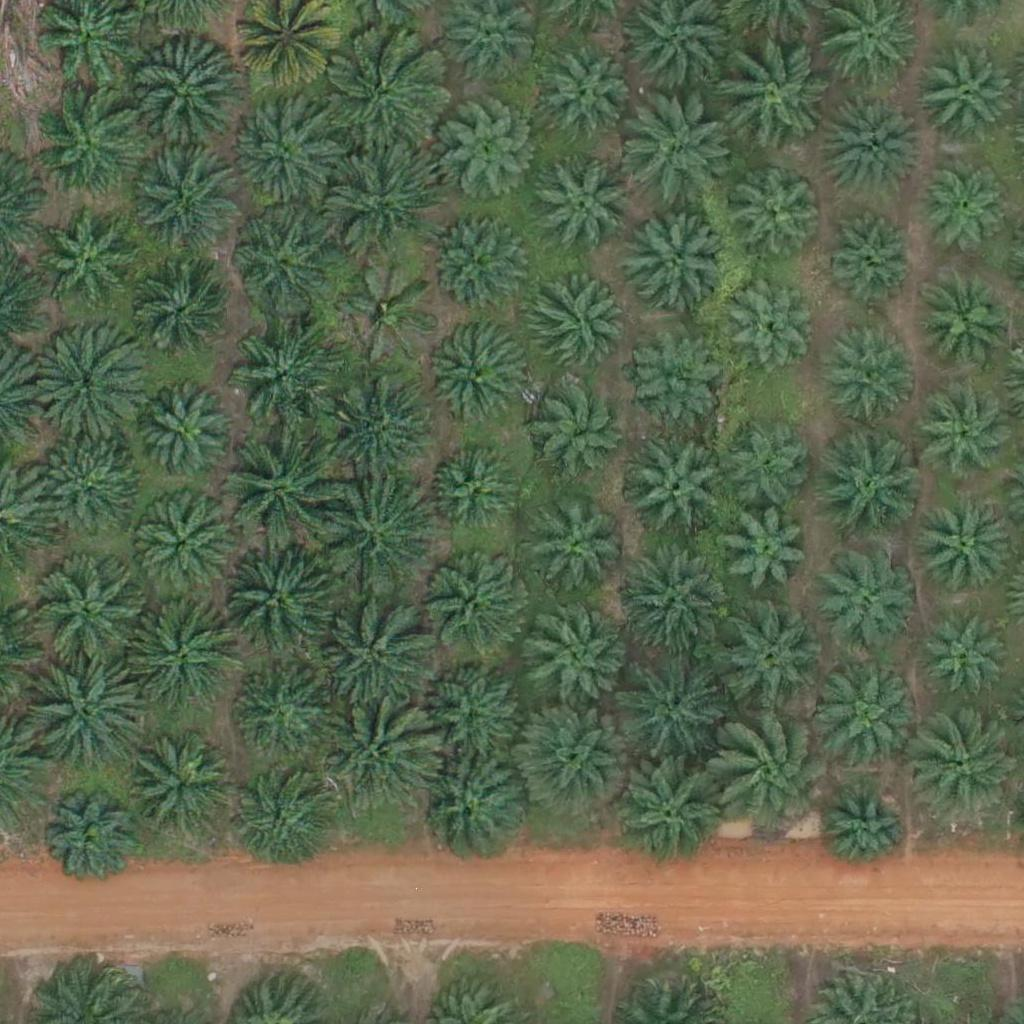Kelapa_Sawit: (711, 713, 836, 839), (222, 541, 335, 655), (29, 325, 142, 439), (615, 550, 728, 663), (615, 651, 728, 764), (611, 758, 724, 871), (316, 595, 429, 708), (319, 366, 432, 479), (323, 146, 436, 259), (327, 34, 440, 147), (221, 435, 334, 548), (130, 41, 243, 154), (124, 599, 237, 712), (34, 560, 147, 673), (620, 98, 732, 212), (319, 480, 431, 594), (35, 88, 147, 202), (714, 37, 826, 150), (711, 602, 823, 715), (520, 706, 632, 819), (414, 752, 526, 865), (319, 700, 431, 813), (227, 314, 339, 427), (126, 736, 238, 849), (36, 657, 148, 770), (916, 46, 1016, 147), (916, 270, 1016, 371), (918, 387, 1018, 488), (914, 498, 1014, 599), (819, 319, 919, 420), (818, 438, 918, 539), (815, 547, 915, 648), (727, 159, 827, 260), (627, 214, 727, 315), (631, 443, 731, 544), (532, 156, 632, 257), (524, 276, 624, 377), (529, 376, 629, 477), (525, 608, 625, 709), (430, 211, 530, 312), (427, 327, 527, 428), (426, 553, 526, 654), (228, 100, 328, 201), (230, 212, 330, 313), (234, 665, 334, 766), (231, 774, 331, 875), (136, 157, 236, 258), (131, 497, 231, 598), (37, 212, 137, 313), (818, 101, 918, 201), (820, 670, 920, 770), (623, 326, 723, 426), (433, 106, 533, 206), (427, 655, 527, 755), (339, 262, 439, 362), (128, 271, 228, 371), (39, 444, 139, 544), (919, 168, 1007, 257), (141, 391, 229, 480), (824, 212, 912, 300), (429, 452, 517, 540), (926, 613, 1013, 702), (821, 785, 908, 873), (725, 280, 812, 368), (725, 421, 812, 509), (722, 509, 809, 597), (544, 51, 631, 139), (533, 504, 620, 592), (44, 798, 131, 886)
